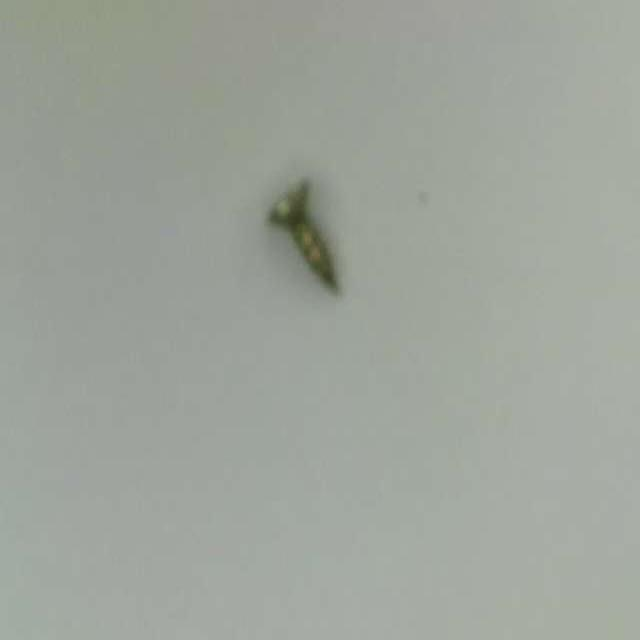Parafuso: (270, 181, 335, 285)
